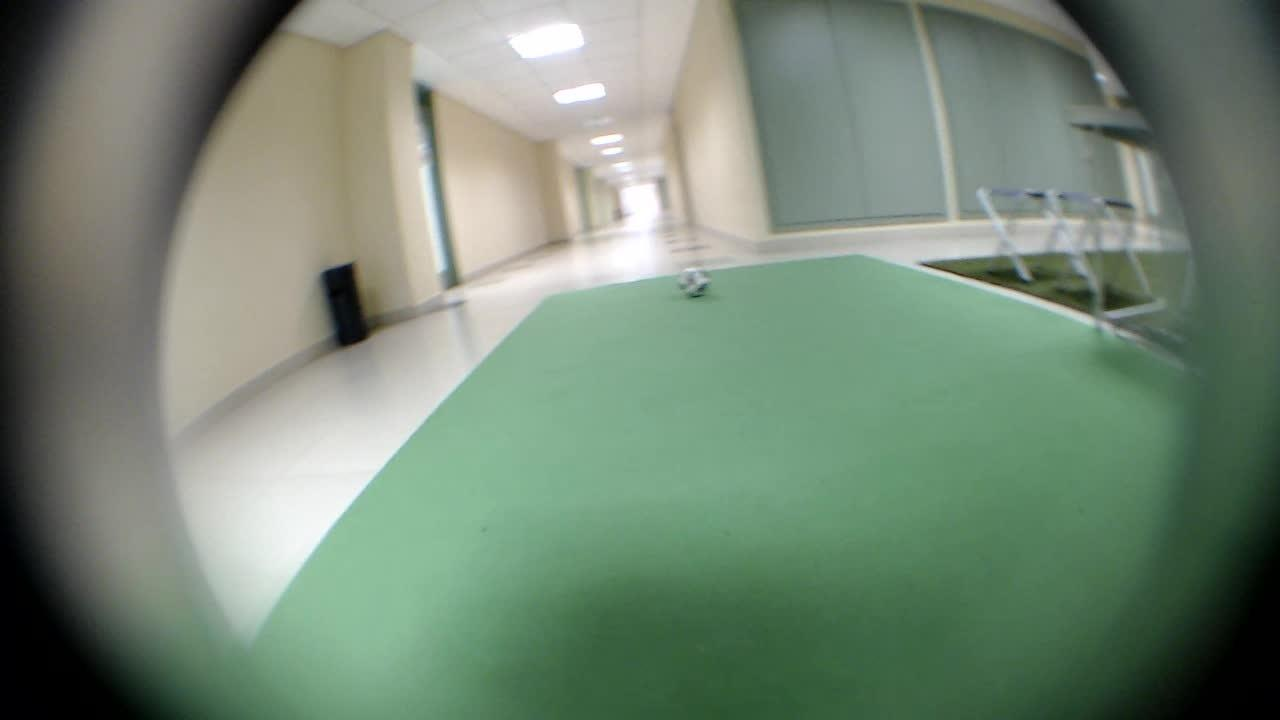ball: (668, 256, 714, 301)
